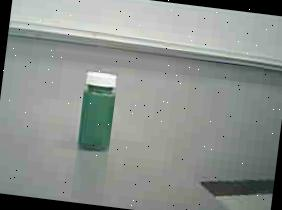Bottle C: (63, 60, 134, 163)
